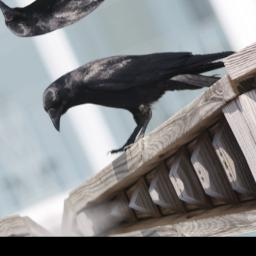Crow: (33, 7, 256, 173)
